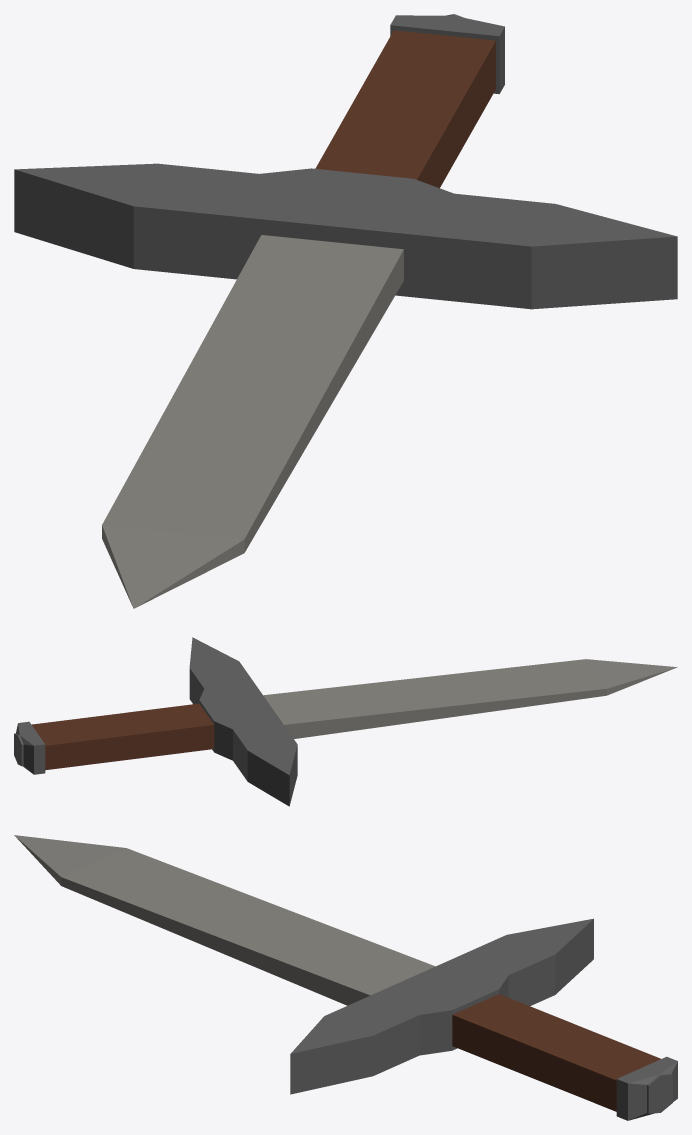
The model's file is stone_sword.fbx.
3 renders of one model, top to bottom at view 1: azimuth 30°, elevation 25°; view 2: azimuth 150°, elevation 25°; view 3: azimuth 270°, elevation 25°, orthographic. The views are drawn at different scales.
Visible parts, largest first — view 1: stone_sword; view 2: stone_sword; view 3: stone_sword.
Part boxes in pixels (bbox=[...]): stone_sword: bbox=[14, 14, 677, 608]; stone_sword: bbox=[14, 637, 677, 806]; stone_sword: bbox=[14, 835, 677, 1120].
Size of the model in its own units: 89.68 by 6.35 by 94.2.
